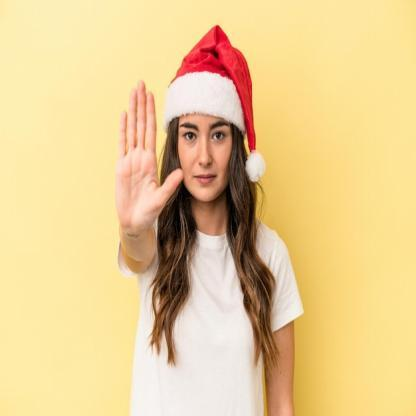stop: (115, 77, 184, 236)
